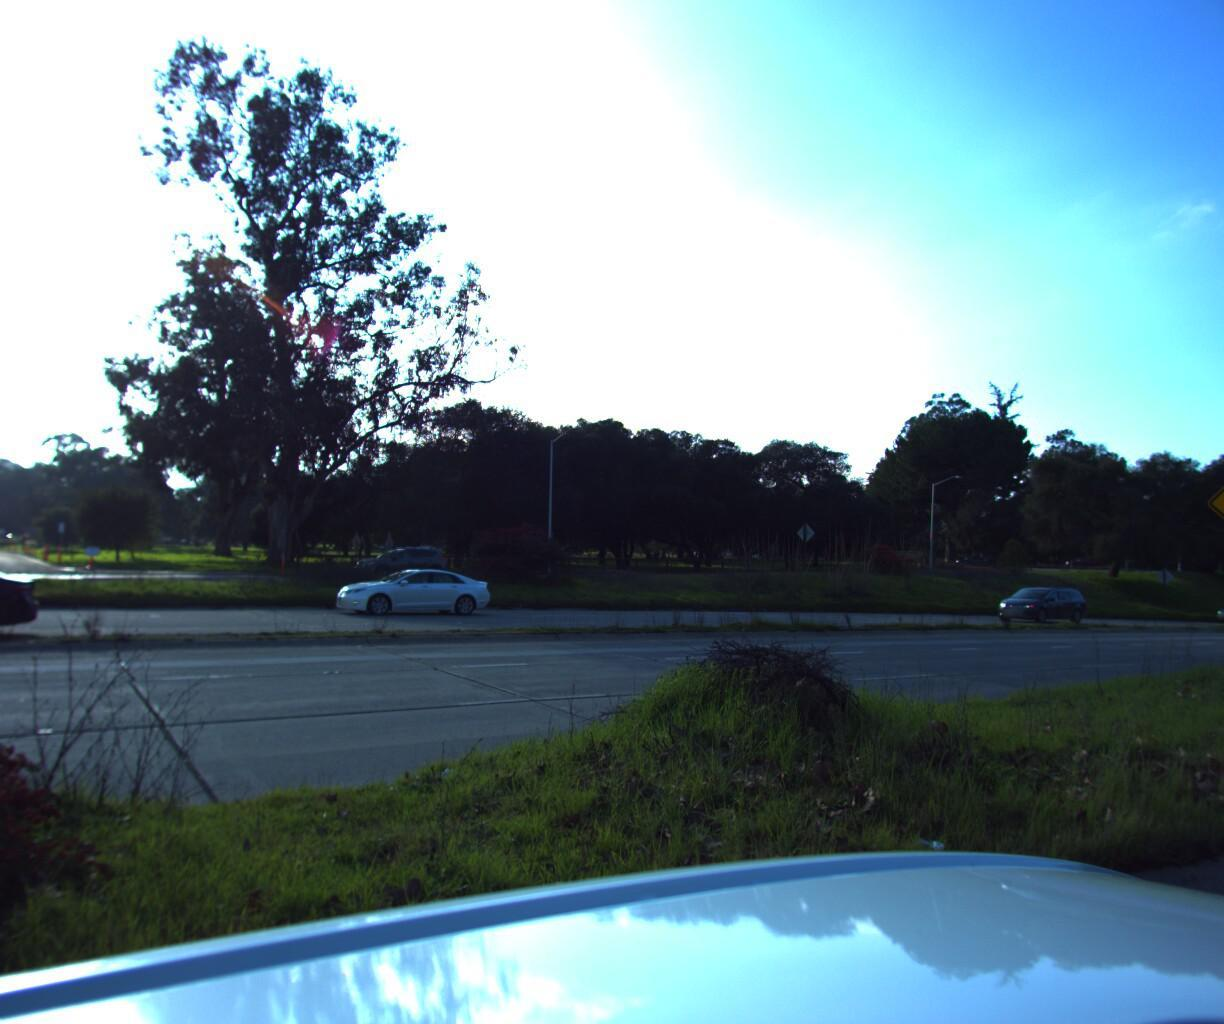car: (327, 562, 497, 618), (991, 581, 1091, 621), (350, 540, 452, 577), (0, 554, 34, 655), (1207, 593, 1224, 618)
